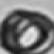correct: (0, 8, 54, 54)
